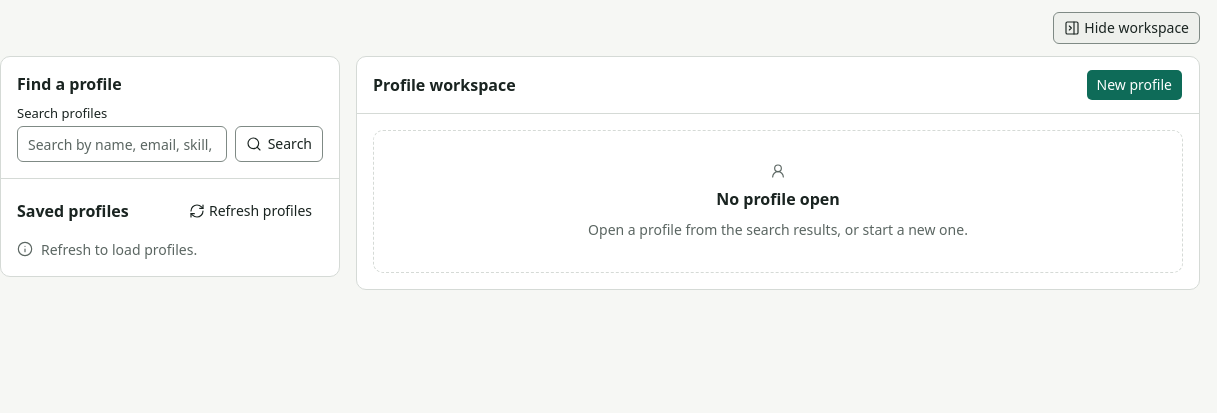
Test: find a profile › shows the results, the matched fields and the summary
This screenshot has width=1217, height=413.
Step 1. Type " ada " into the field with test id "profileSearchInput" → (122, 144), box [17,126,227,162]
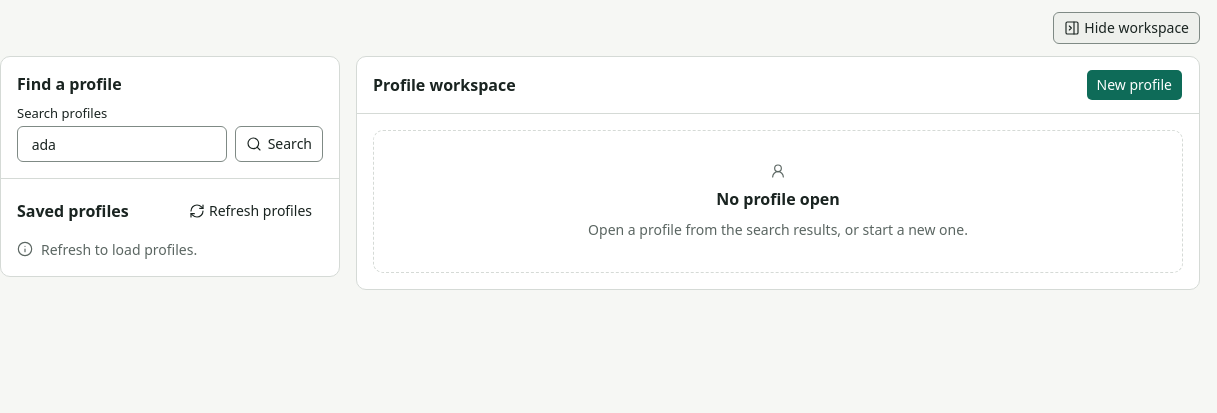
Step 2. Click the button with test id "searchProfilesButton" → (279, 144), box [235,126,323,162]
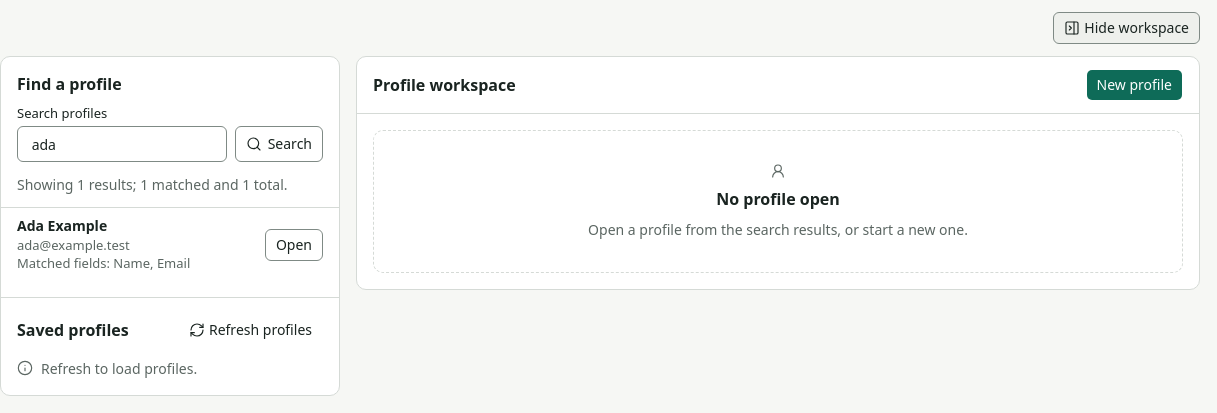
expect the text "Showing 1 results; 1 matched and 1 total." is shown: met, box [17,174,323,195]
expect the text "Matched fields: Name, Email" is shown: met, box [17,254,190,272]
expect the button with aria-label "Open profile Ada Example" is shown: met, box [265,228,323,260]
